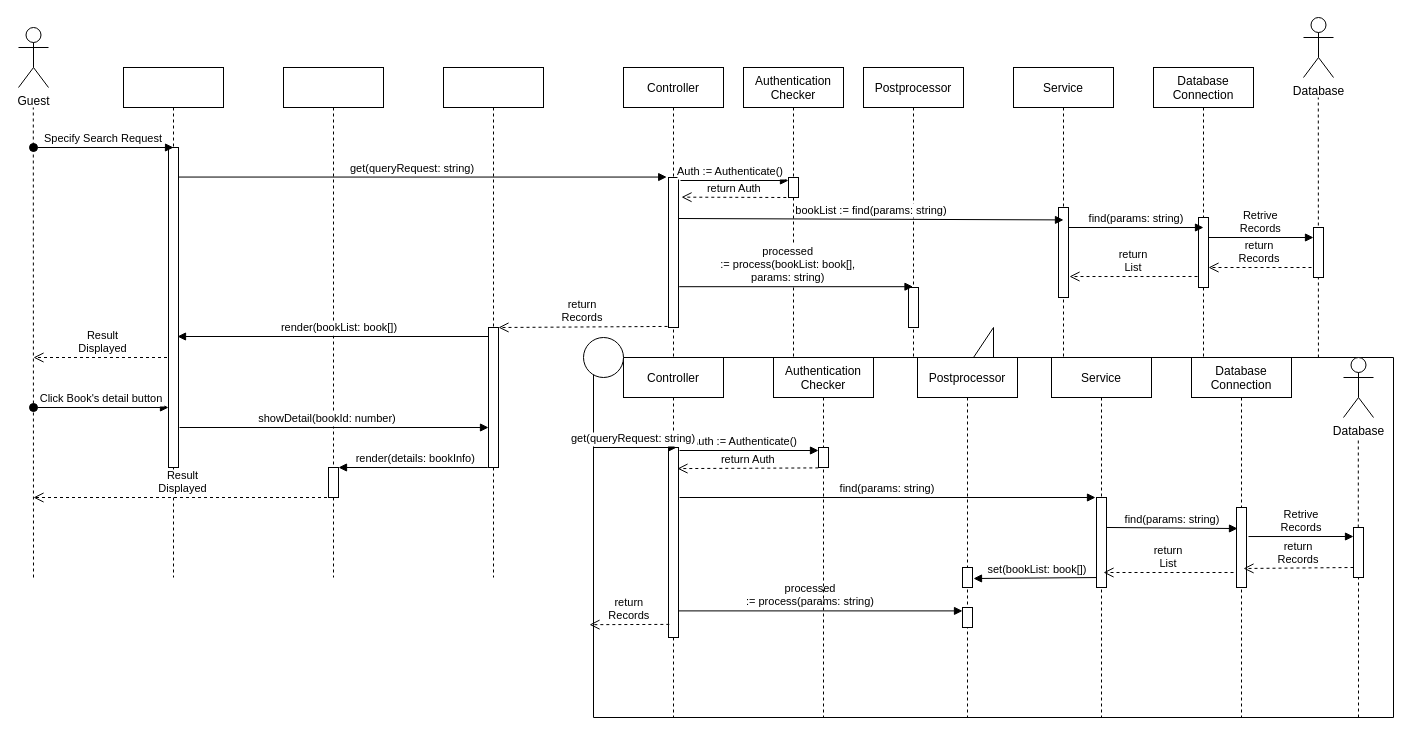
Image size: 1411x736. Some labels were removed from this diagram. Here are the shapes that lost their labels. From the top down, the box of each, then its label:
(122, 66, 224, 578): Search Page View
(282, 66, 384, 578): Detail Page View
(442, 66, 544, 578): View Controller
(582, 336, 624, 378): V1
